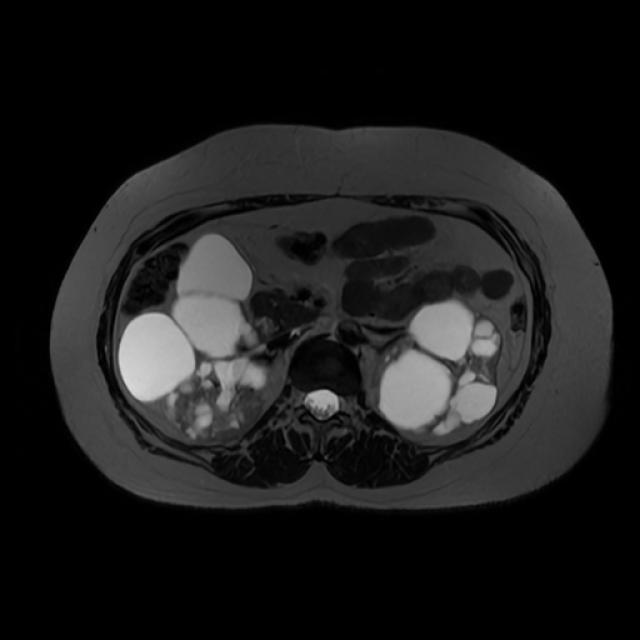sag: (118, 233, 269, 442)
sol: (380, 301, 504, 434)
